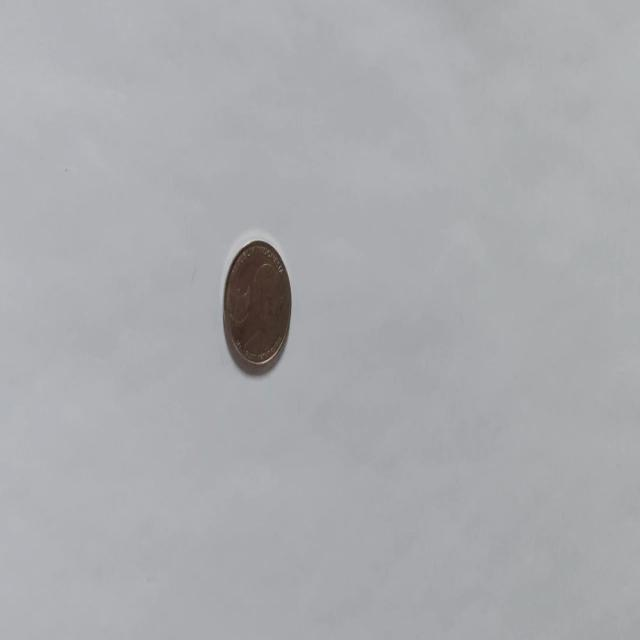seribu rupiah koin: (221, 235, 292, 374)
